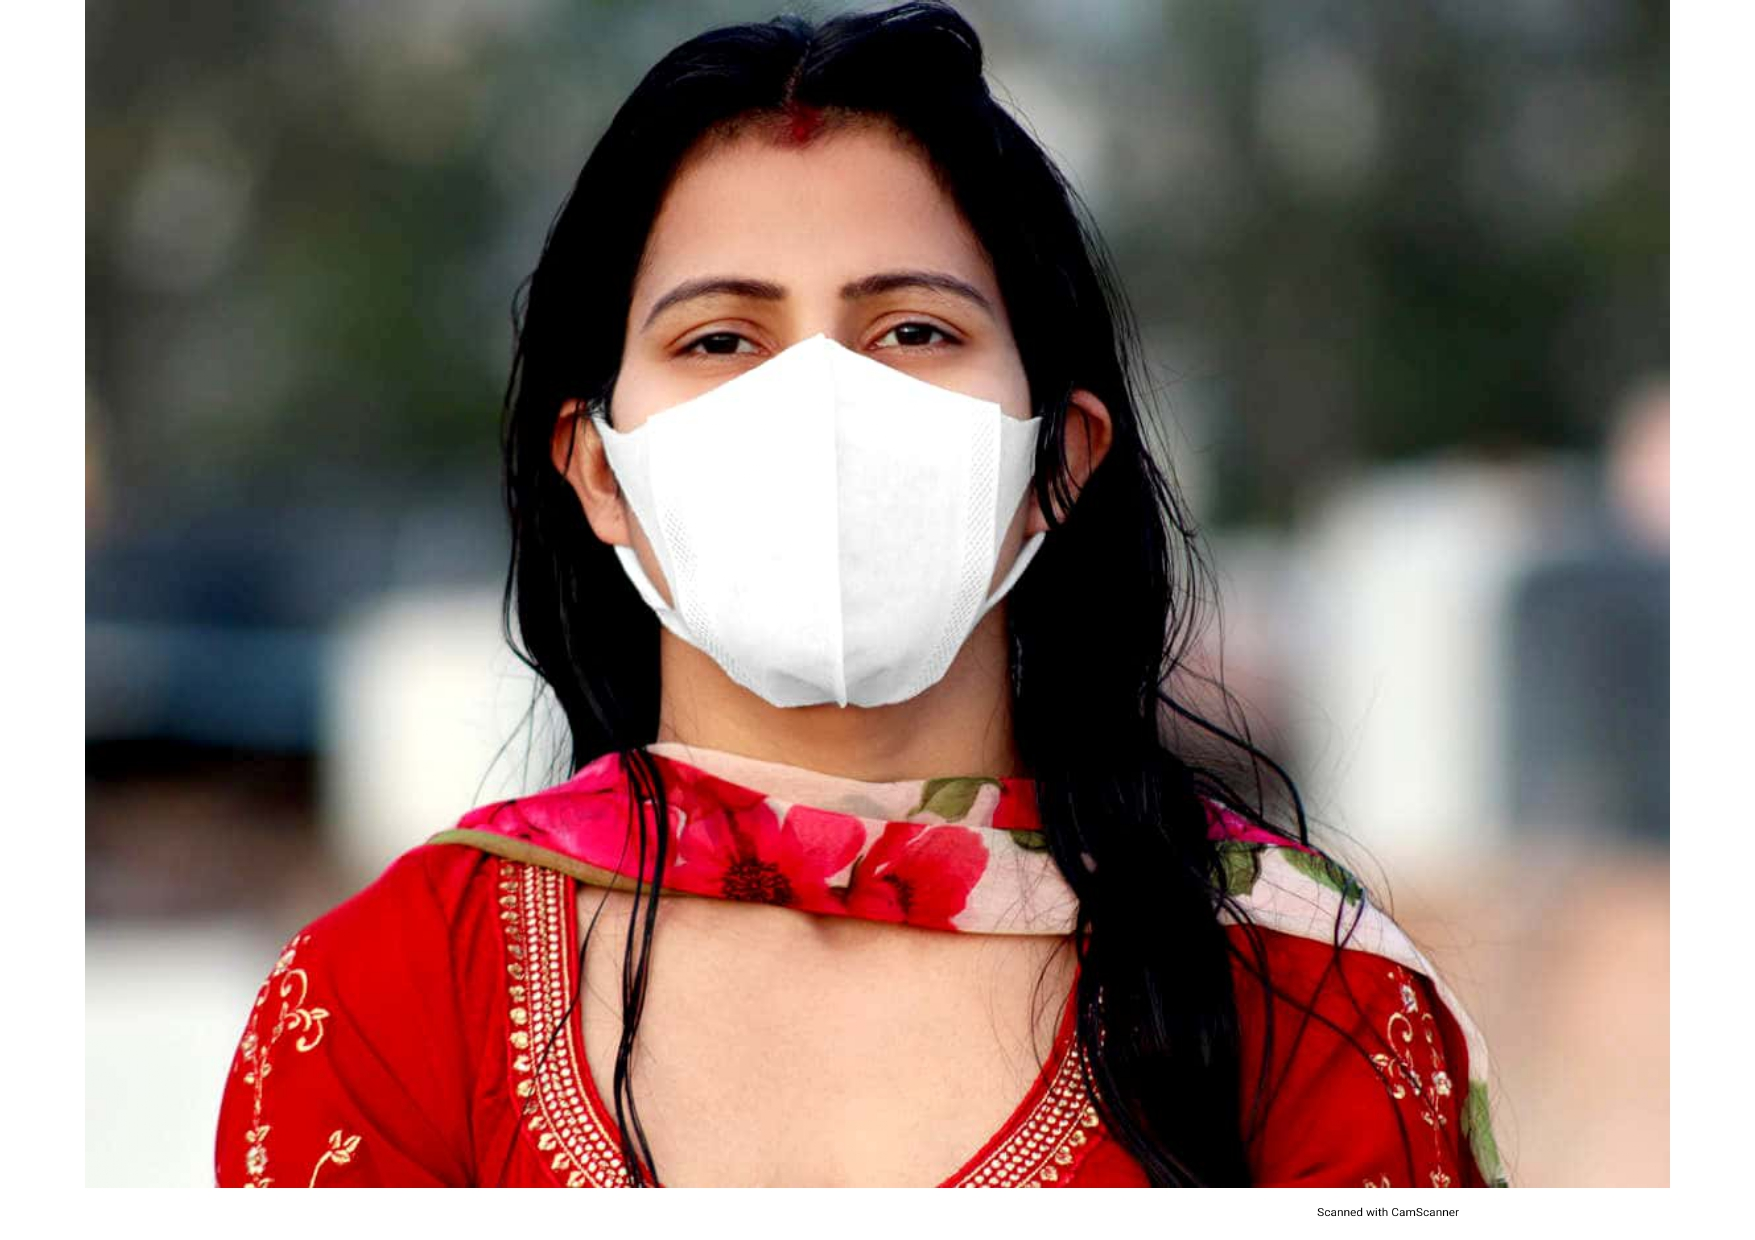mask: (466, 334, 1142, 761)
social distancing: (378, 15, 1424, 1016)
